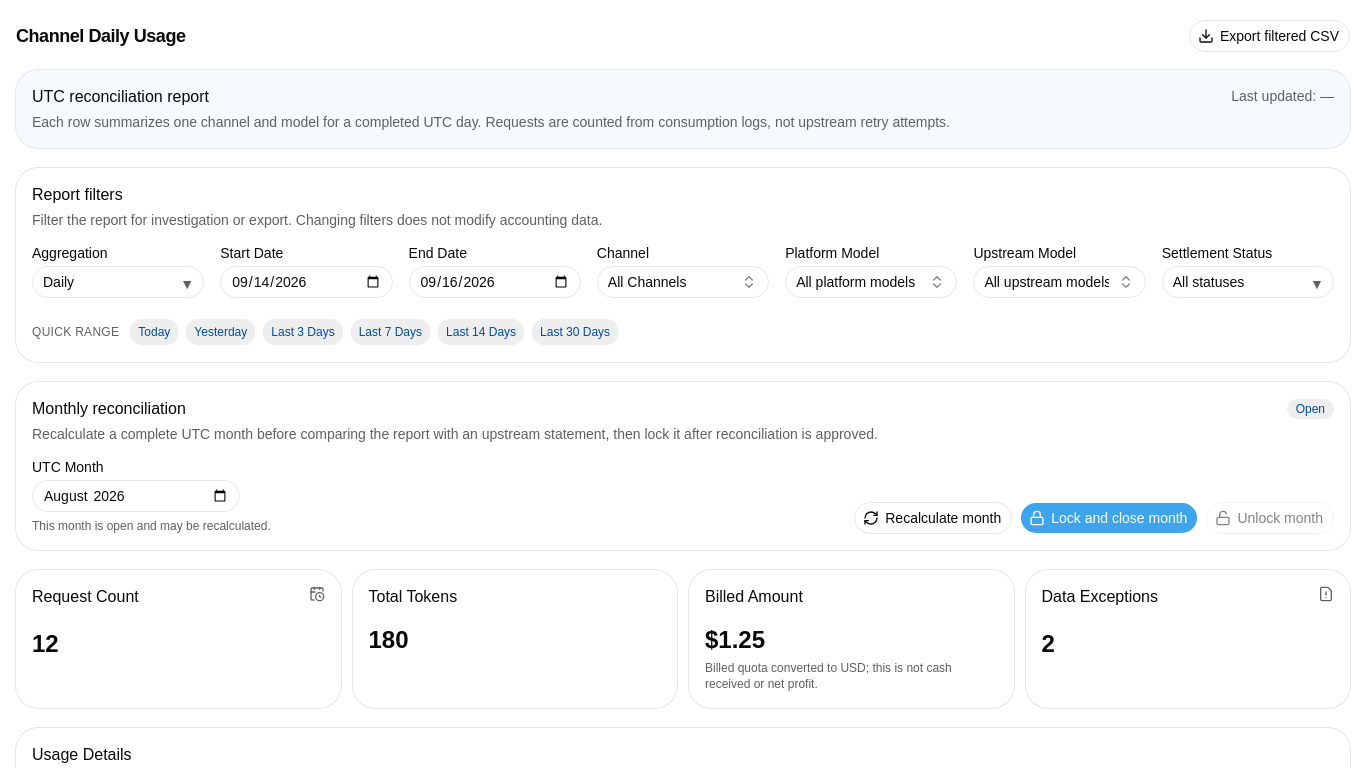
Scenario: Channel daily usage report filters › offers channels and model names as report filter choices
Focus the dropdown labelled "Channel" at (683, 282), box [597,266,769,298]
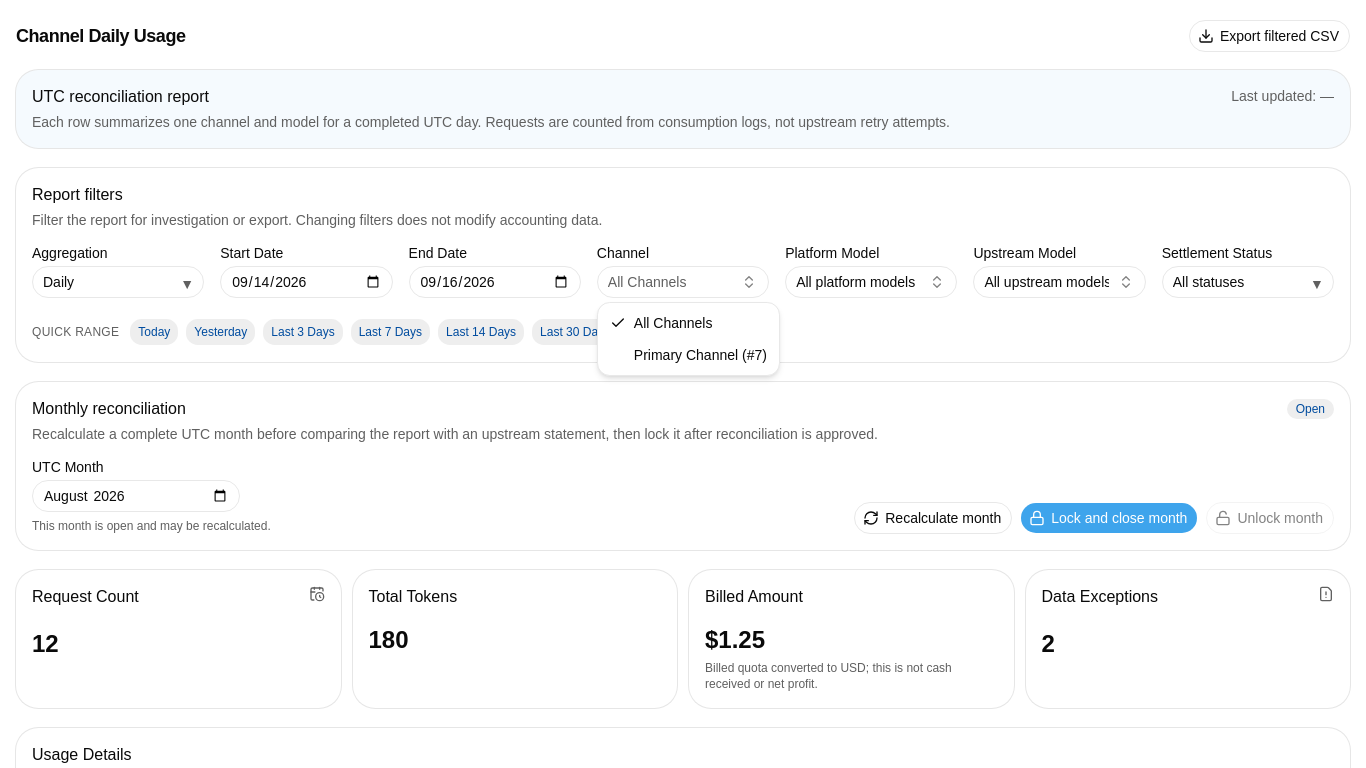
Now the option "Primary Channel (#7)" is shown, box [634,347,767,363]
Press Escape in the dropdown labelled "Channel", box [597,266,769,298]
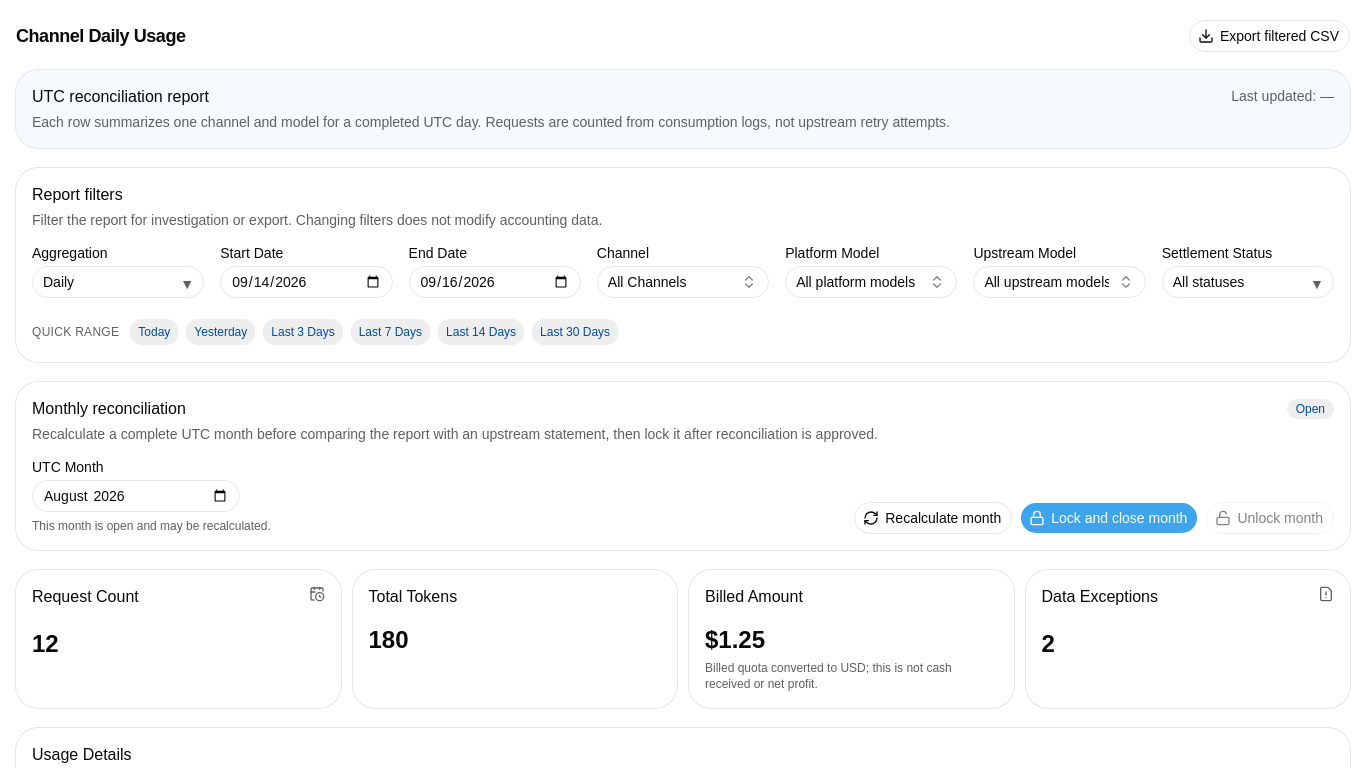
Focus the dropdown labelled "Platform Model" at (871, 282), box [785,266,957,298]
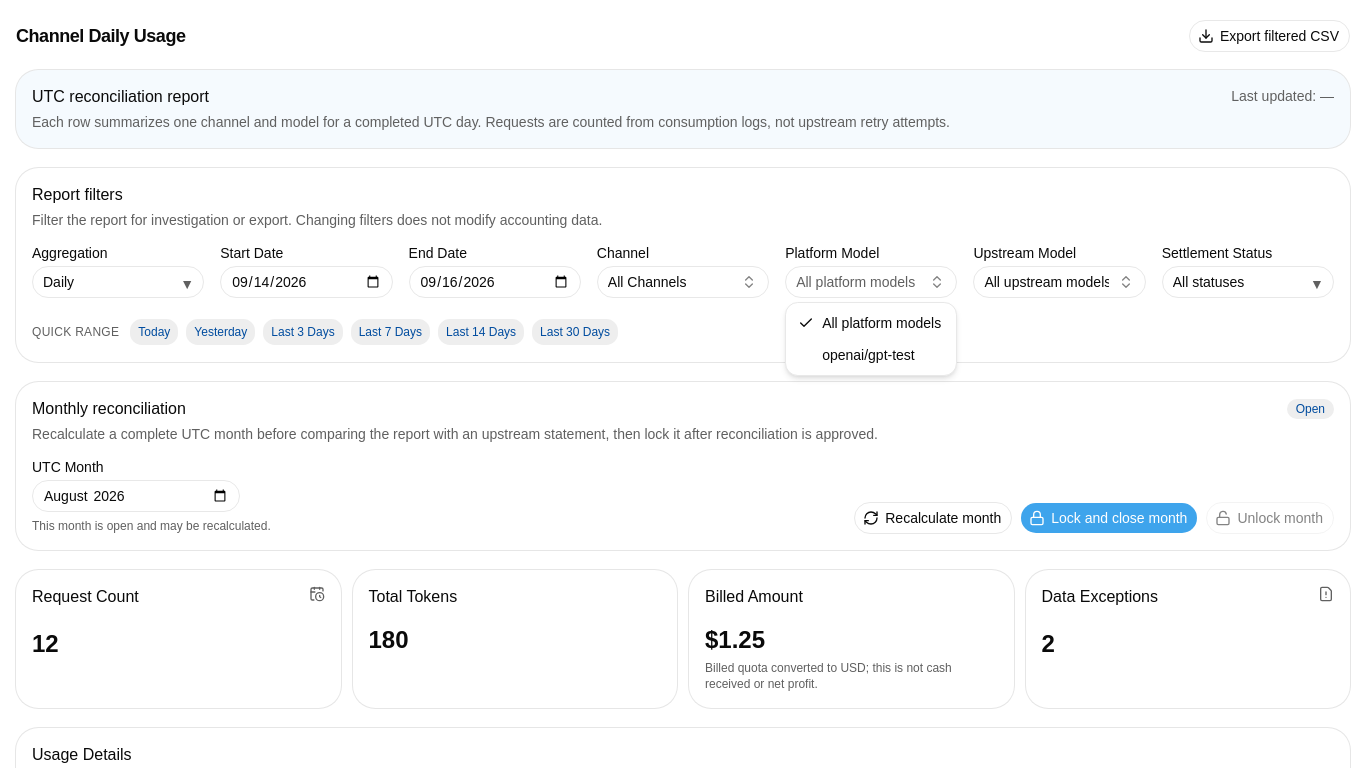
Now the option "openai/gpt-test" is shown, box [822,347,915,363]
Press Escape in the dropdown labelled "Platform Model", box [785,266,957,298]
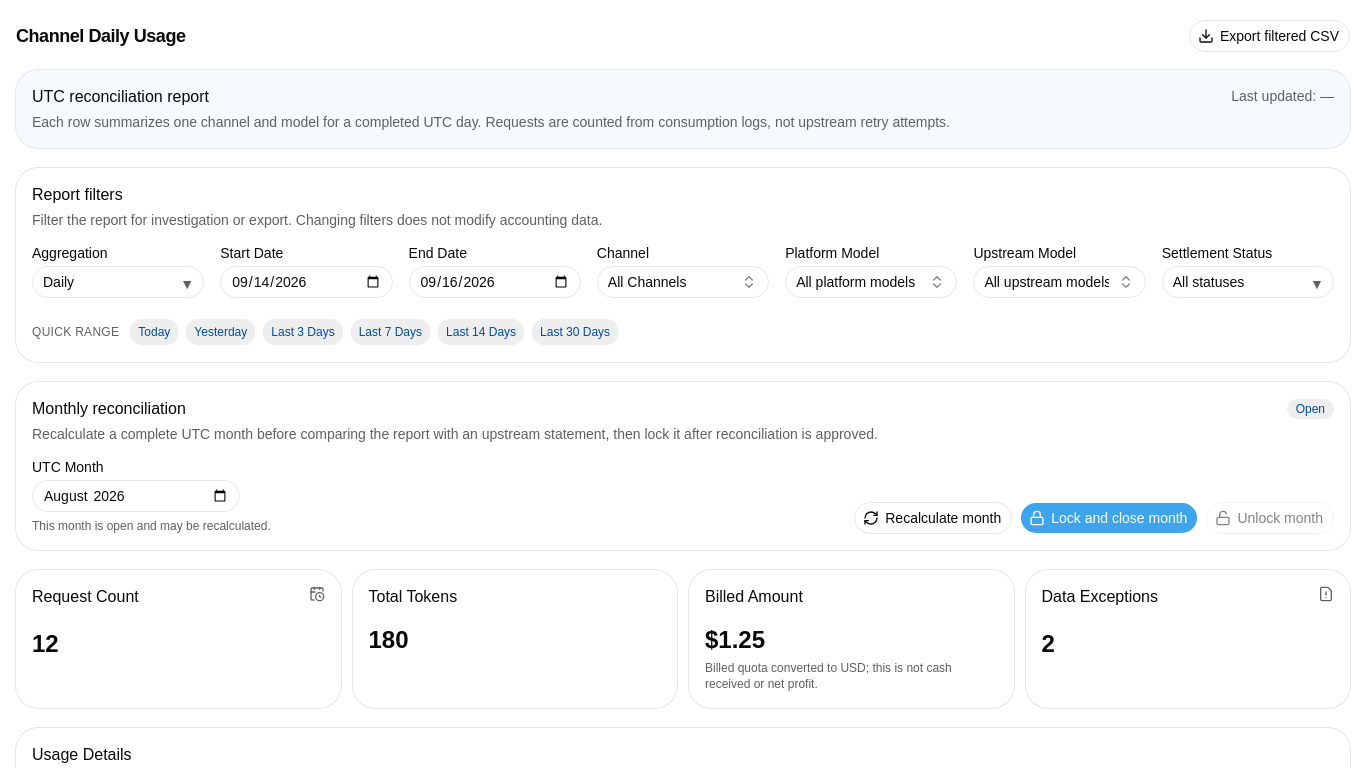
Focus the dropdown labelled "Upstream Model" at (1060, 282), box [973,266,1146,298]
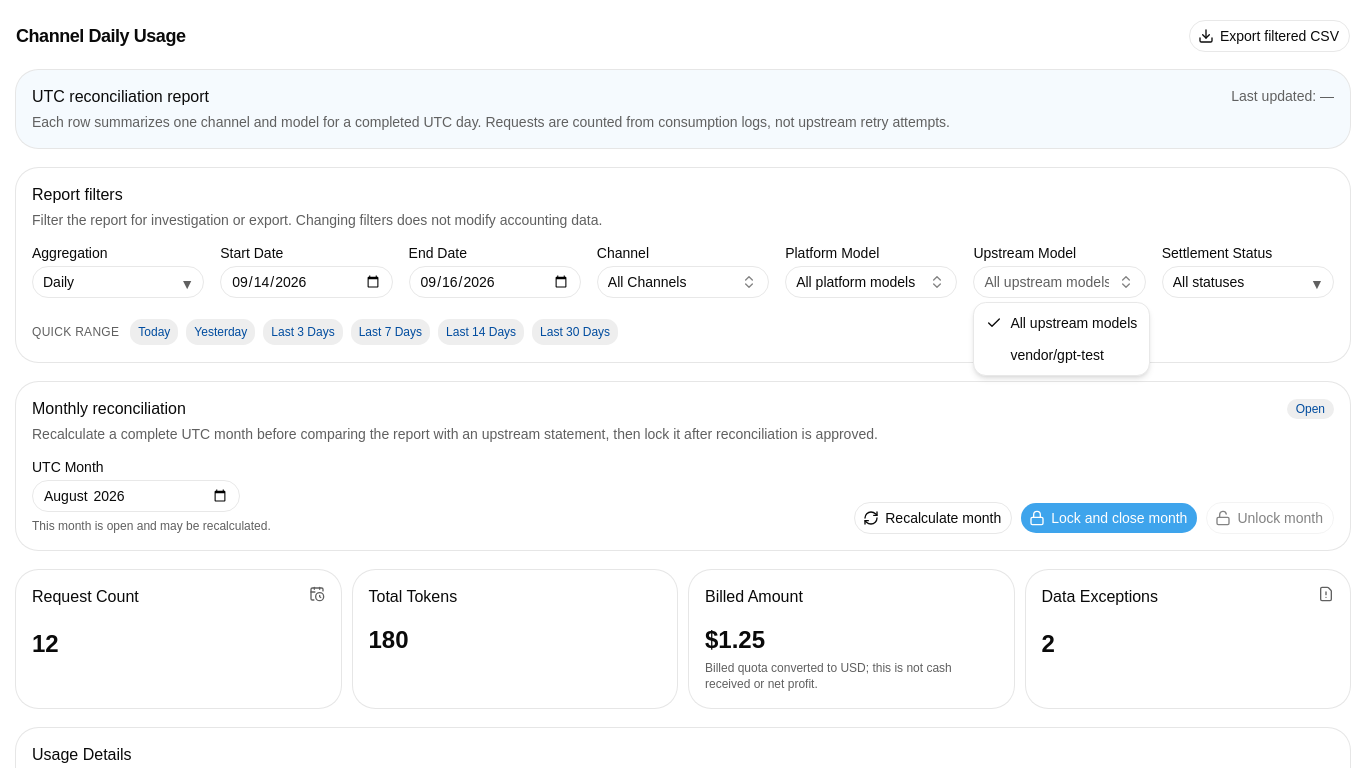
Now the option "vendor/gpt-test" is shown, box [1010,347,1104,363]
